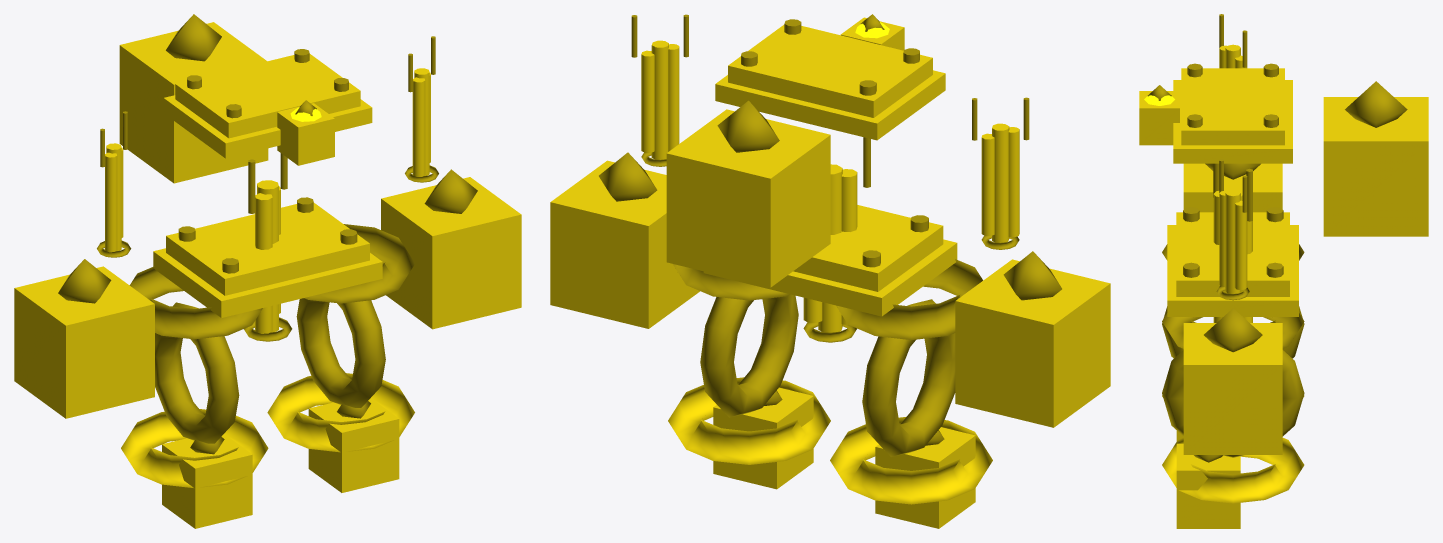
Rendered from golem_026.glb.
The picture shows the model from 3 angles, left to right: view 1: azimuth 30°, elevation 25°; view 2: azimuth 150°, elevation 25°; view 3: azimuth 270°, elevation 25°; orthographic projection. The views are drawn at different scales.
Parts seen in each view (by area): view 1: Body, Detail; view 2: Body, Detail; view 3: Body, Detail.
Part boxes in pixels (x1=…): Body: x1=14, y1=22, x2=521, y2=528; Detail: x1=58, y1=14, x2=477, y2=454; Body: x1=550, y1=17, x2=1110, y2=528; Detail: x1=599, y1=14, x2=1061, y2=456; Body: x1=1139, y1=44, x2=1428, y2=528; Detail: x1=1147, y1=14, x2=1407, y2=462.
Bounding box in the file's own units: 1.3 × 1.13 × 0.744.
